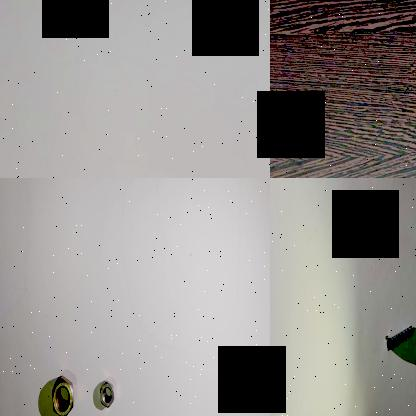Bolts: (381, 320, 416, 358)
NUTS: (51, 373, 75, 416), (96, 379, 116, 413)
